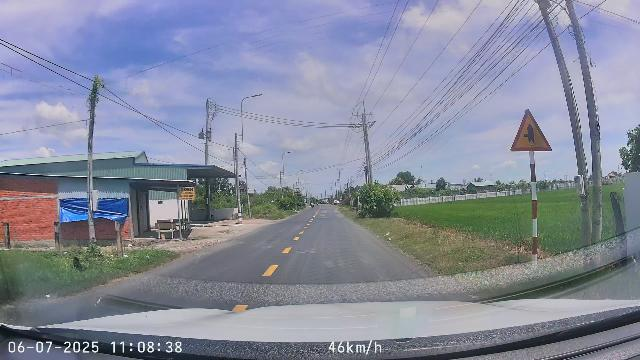207-giao-nhau-voi-duong-khong-uu-tien: (510, 109, 551, 152)
